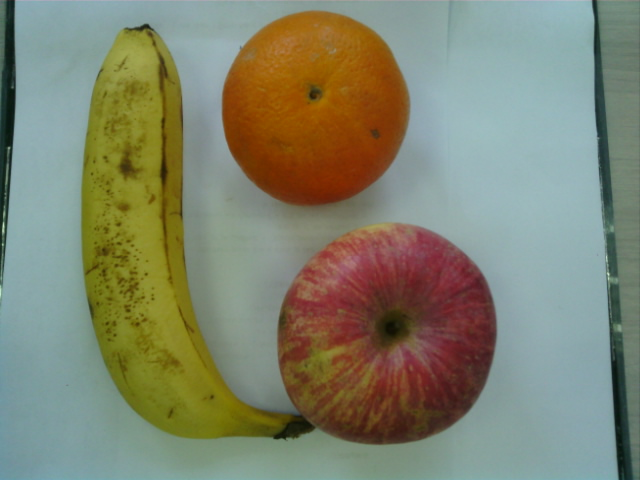normal_apple: (279, 226, 498, 444)
normal_banana: (79, 20, 280, 442)
normal_orange: (222, 11, 411, 206)
